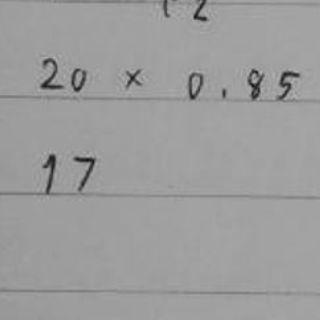.: (219, 87, 229, 100)
0: (185, 70, 205, 101), (69, 66, 88, 94)
1: (40, 152, 59, 195)
2: (38, 56, 66, 91)
5: (277, 69, 301, 103)
7: (72, 155, 97, 191)
8: (245, 66, 266, 102)
